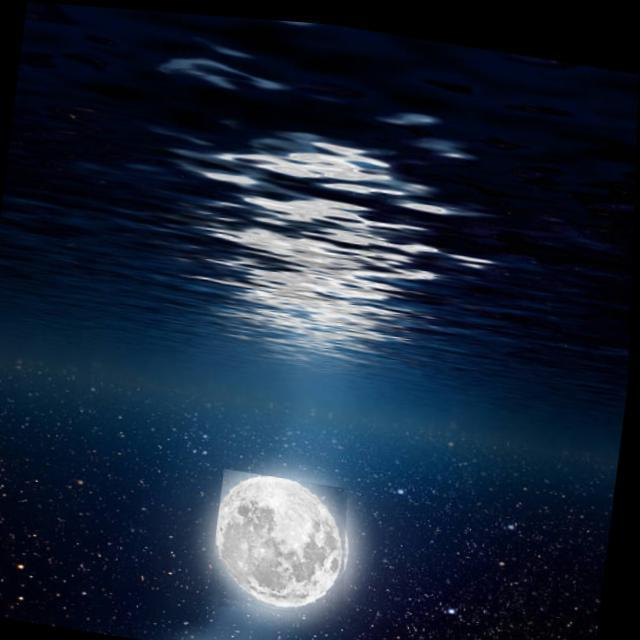moon: (212, 464, 362, 618)
